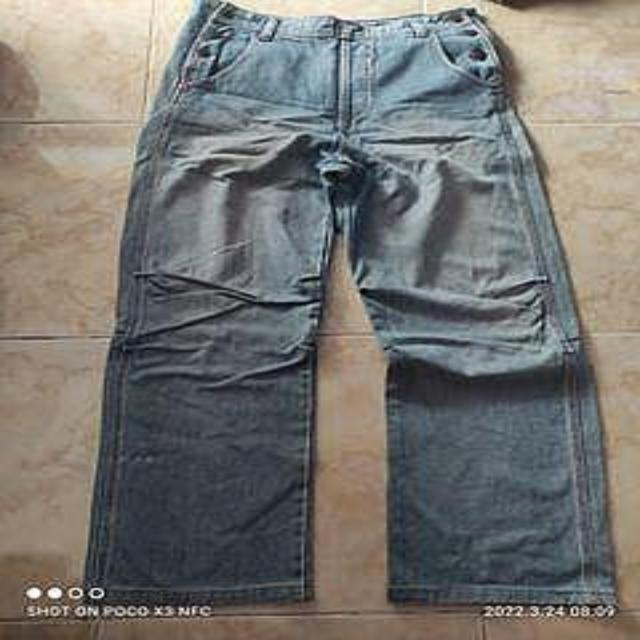TROUSER: (82, 0, 627, 605)
